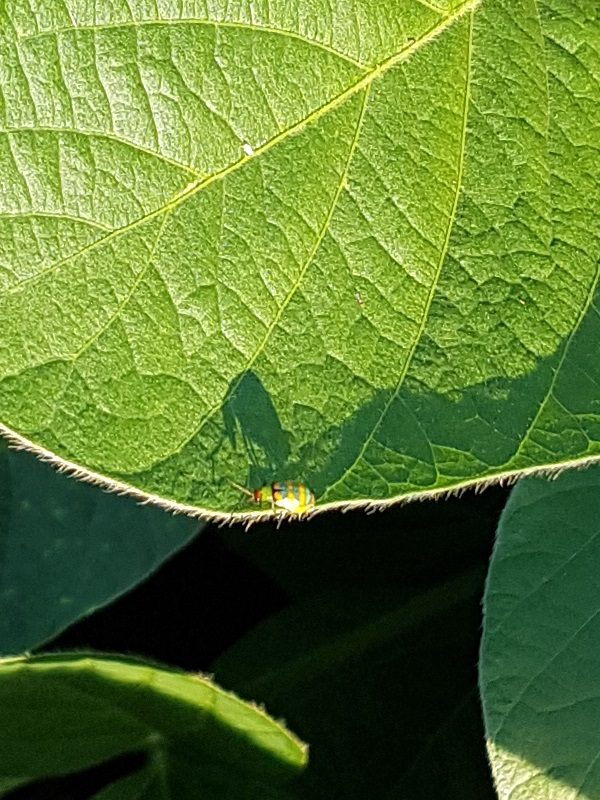Diabrotica_speciosa: (221, 456, 339, 552)
